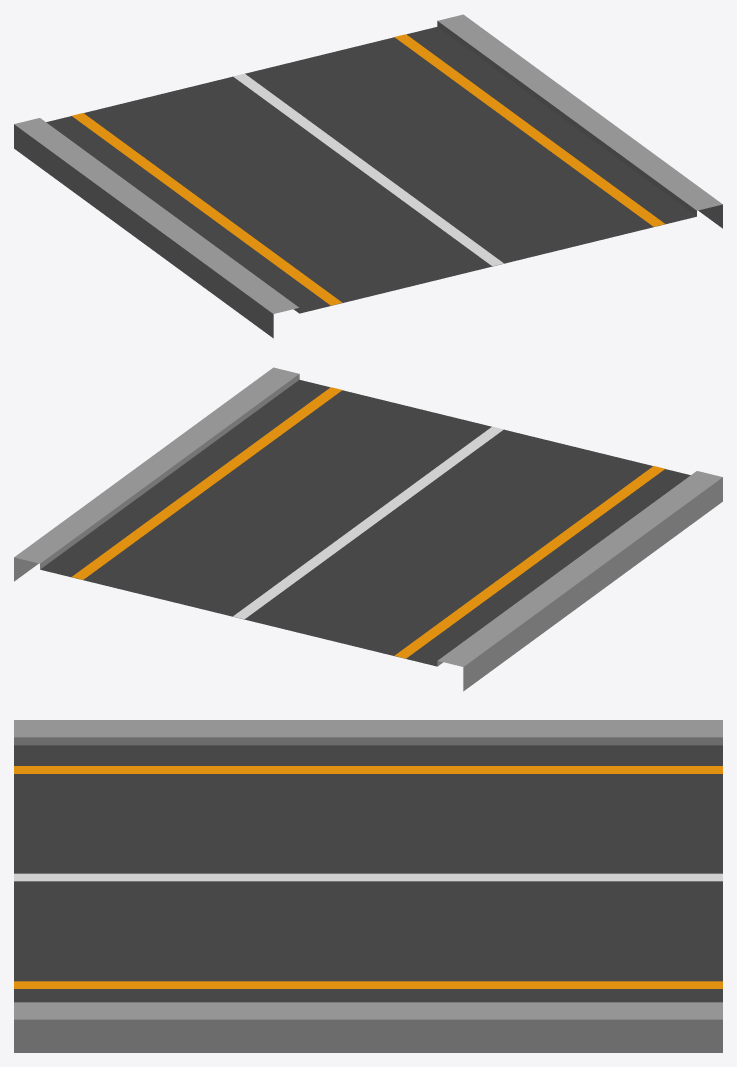
Rendered from Road_A_2.glb.
3 views of the same model, one above another, from view 1: azimuth 30°, elevation 25°; view 2: azimuth 150°, elevation 25°; view 3: azimuth 270°, elevation 25° (orthographic). The views are drawn at different scales.
Visible parts, largest first — view 1: Road_A_2; view 2: Road_A_2; view 3: Road_A_2.
Boxes of the visible parts, x1,y1,x2,y2 form: Road_A_2: [14, 14, 722, 338]; Road_A_2: [14, 367, 722, 691]; Road_A_2: [14, 720, 722, 1052].
Size of the model in its own units: 8 by 0.4148 by 8.
1 material, 1 textured.
